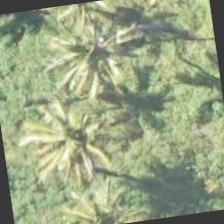Kelapa_Sawit: (23, 88, 125, 190)
